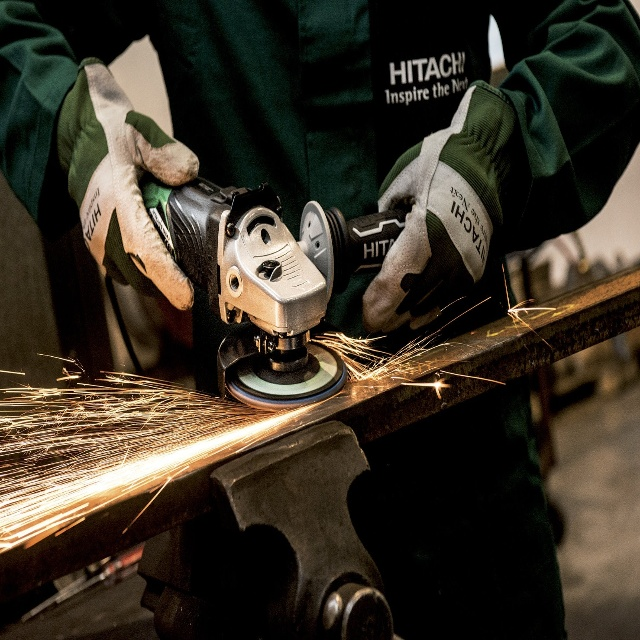Guantes: (361, 74, 532, 335), (58, 60, 200, 312)
